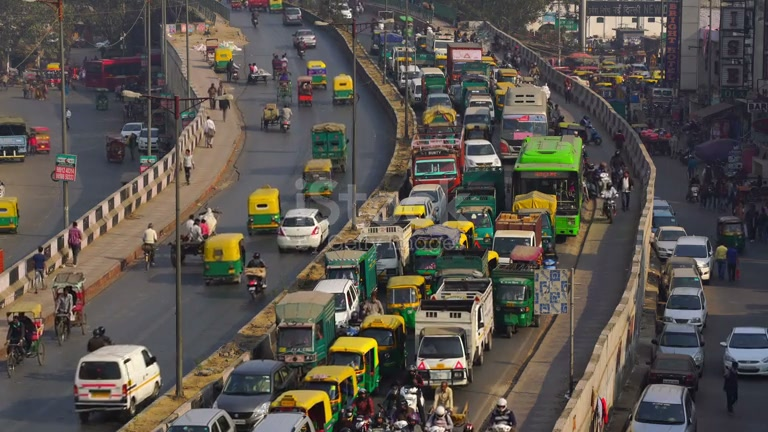bus: (413, 272, 495, 368), (512, 134, 583, 237), (267, 290, 339, 366), (498, 83, 548, 155), (492, 210, 552, 269), (491, 266, 539, 331), (411, 148, 461, 198), (83, 56, 144, 92), (444, 42, 483, 92), (421, 102, 460, 141)
car: (72, 343, 163, 421), (214, 358, 294, 424), (411, 329, 473, 389), (628, 382, 698, 432), (652, 323, 707, 377), (276, 207, 331, 253), (720, 326, 768, 376), (662, 281, 708, 331), (647, 352, 703, 391), (656, 256, 705, 300), (671, 235, 713, 282), (164, 408, 237, 432), (247, 185, 282, 234), (250, 411, 315, 432), (0, 115, 28, 163), (651, 225, 687, 261), (0, 194, 20, 233), (27, 125, 51, 154), (292, 30, 317, 52)
pedestrian: (54, 287, 73, 341), (723, 362, 739, 415), (67, 221, 84, 267), (87, 325, 114, 353), (142, 223, 158, 268), (714, 242, 728, 282)
